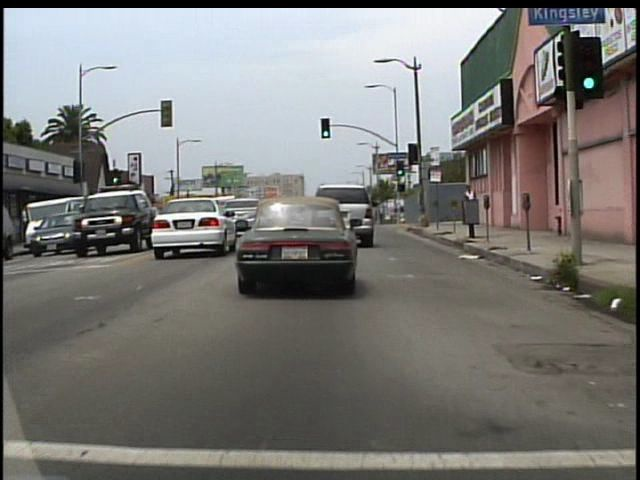person: (460, 184, 478, 230)
